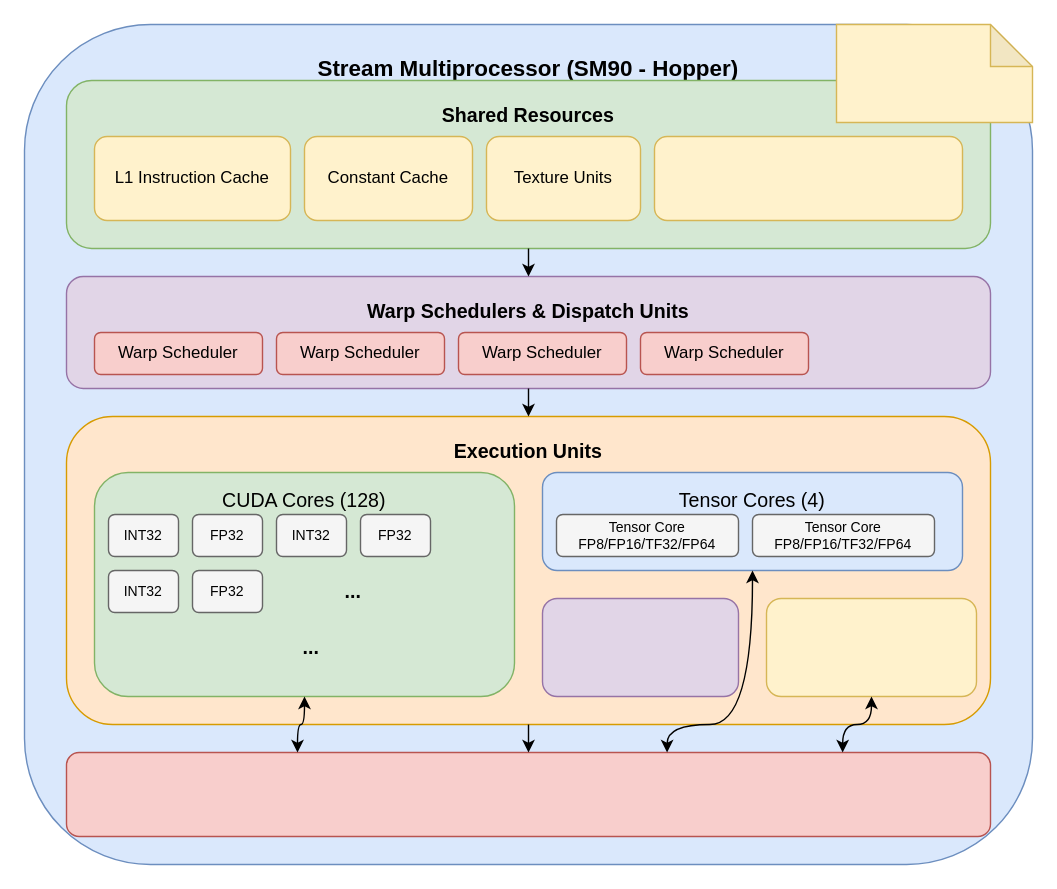
This 1057x889 diagram has some shape labels left out. The shapes that lost their labels are listed below. From the top down, each one's centre as x and y in pixels, then its label:
pixel 933 72: Hopper SM90の新機能: - 4世代目 Tensor Cores - 分散共有メモリ対応 - DPX命令セット
pixel 807 177: L1 Data Cache & Shared Memory (configurable, up to 228KB)
pixel 639 646: Special Function Units (SFUs)
pixel 870 646: Load/Store Units
pixel 527 793: Register File (256KB)
